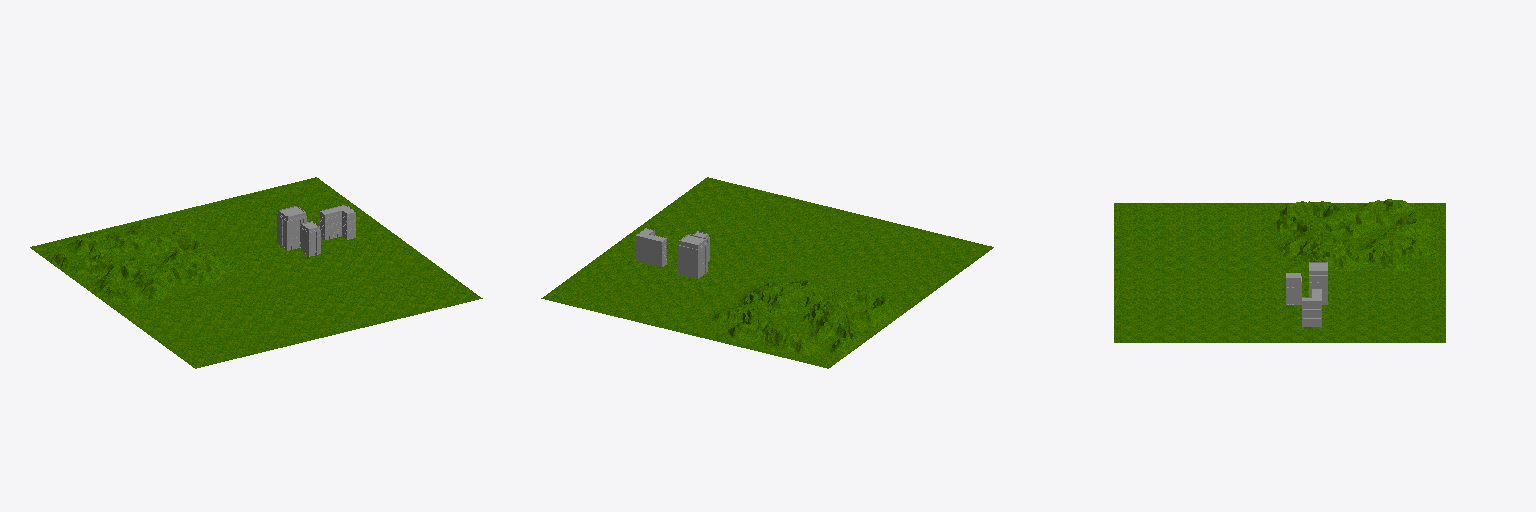
3 renders of one model, left to right at view 1: azimuth 30°, elevation 25°; view 2: azimuth 150°, elevation 25°; view 3: azimuth 270°, elevation 25°, orthographic.
Parts seen in each view (by area): view 1: Plane001, WS_free_terrain_001, Building10, Building11, Building11.001; view 2: Plane001, WS_free_terrain_001, Building11, Building10; view 3: Plane001, WS_free_terrain_001, Building10, Building11.
Part boxes in pixels (left/top/right/bottom): Plane001: left=30, top=177, right=482, bottom=368; WS_free_terrain_001: left=34, top=215, right=255, bottom=309; Building10: left=320, top=205, right=355, bottom=239; Building11: left=277, top=206, right=306, bottom=250; Building11.001: left=301, top=221, right=320, bottom=256; Plane001: left=541, top=177, right=993, bottom=368; WS_free_terrain_001: left=690, top=272, right=913, bottom=365; Building11: left=678, top=234, right=707, bottom=278; Building10: left=636, top=228, right=666, bottom=267; Plane001: left=1114, top=203, right=1445, bottom=342; WS_free_terrain_001: left=1274, top=199, right=1438, bottom=272; Building10: left=1302, top=289, right=1321, bottom=326; Building11: left=1309, top=262, right=1327, bottom=304.
Size of the model in its own units: 15.95 by 1.8 by 15.95.
4 materials, 1 textured.